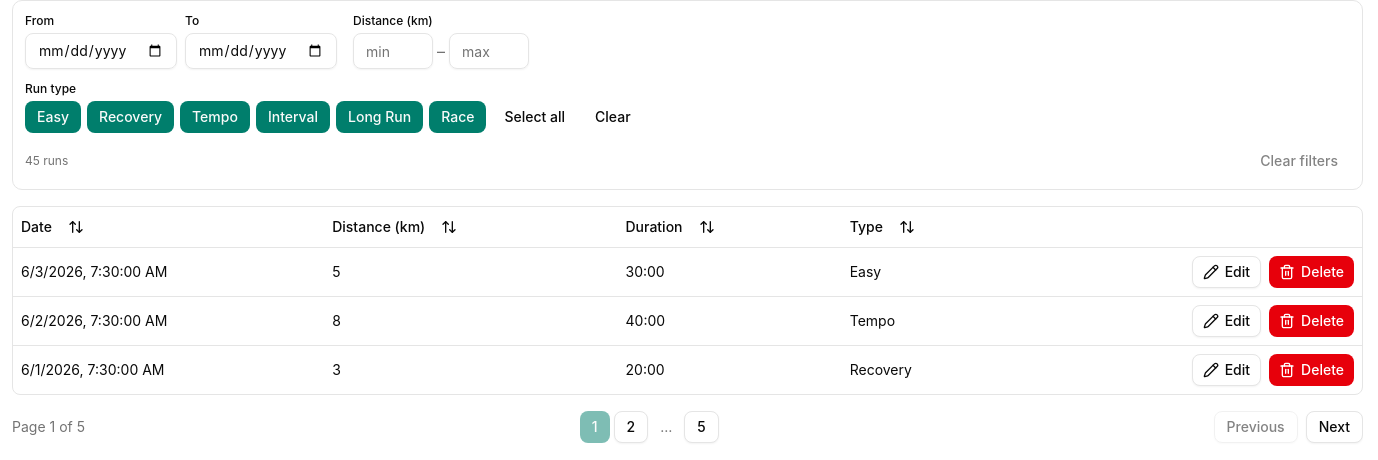
Scenario: RunList pagination › jumps to a specific page via its numbered button
Check: the navigation bar named "Run pages" is shown, box x1=12 y1=410 x2=1363 y2=442
Click the button named "Go to page 5". click: point(702, 426)
box: x1=684 y1=410 x2=719 y2=442
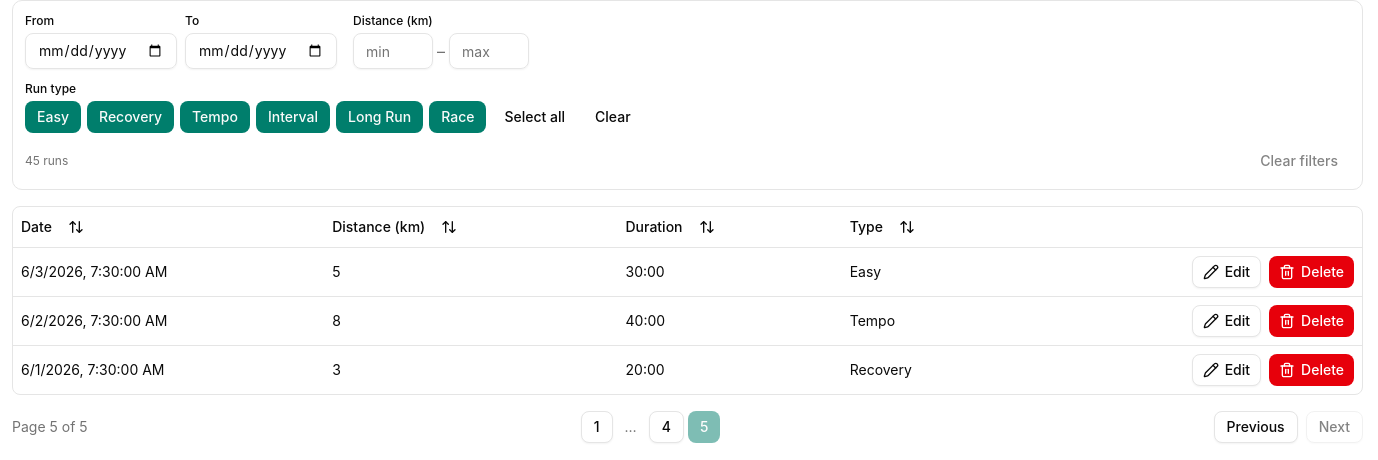
Check: the text "Page 5 of 5" is shown, box x1=12 y1=416 x2=88 y2=436
